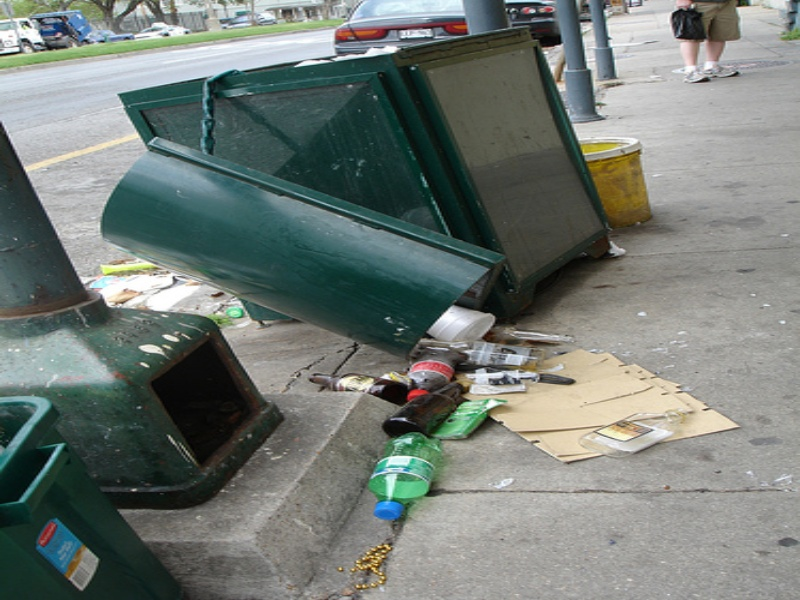car: (333, 1, 469, 53), (1, 11, 93, 54), (504, 1, 564, 45), (221, 11, 277, 29), (135, 22, 191, 39), (90, 30, 133, 44)
person: (671, 1, 744, 82)
